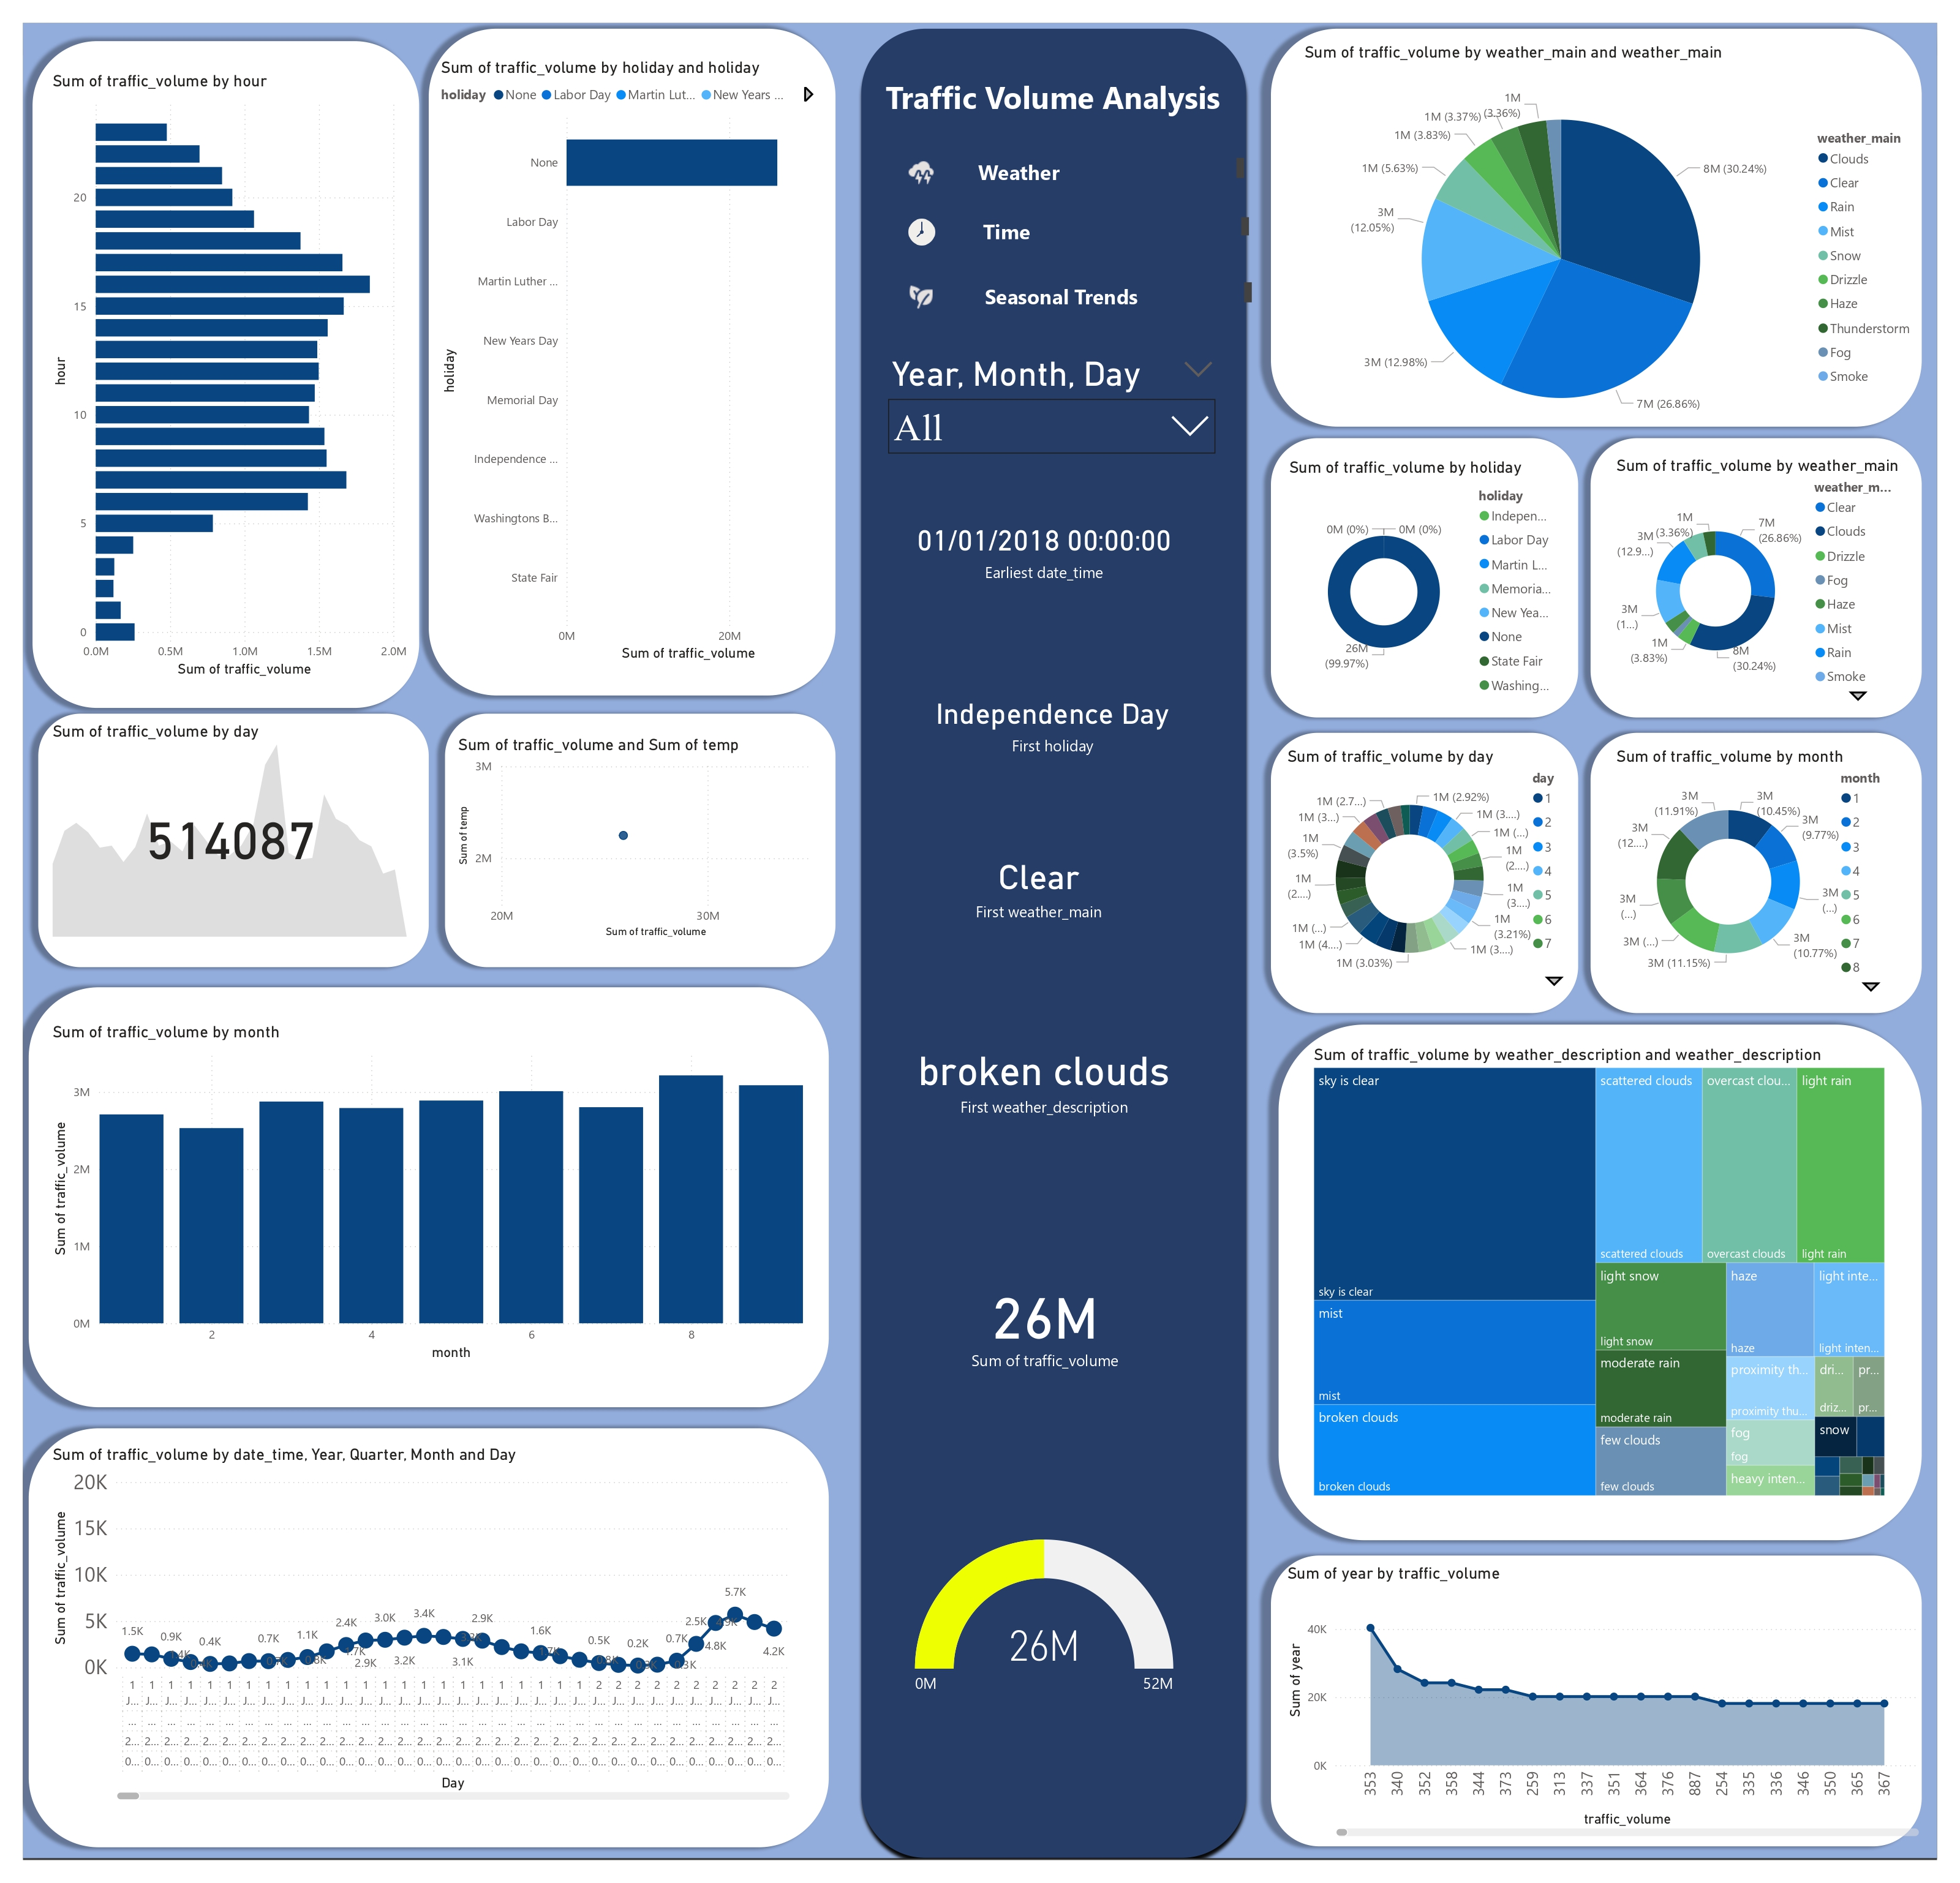

This screenshot's page, from the dashboard's own definition file:
{"tool":"powerbi","page":{"name":"Page 1","canvas":[2000,1920],"ordinal":0},"visuals":[{"type":"lineChart","fields":{"Y":["Sum(Metro_Interstate_Traffic_Volume_test.traffic_volume)"],"Category":["Metro_Interstate_Traffic_Volume_test.date_time","Metro_Interstate_Traffic_Volume_test.date_time.Variation.Date Hierarchy.Year","Metro_Interstate_Traffic_Volume_test.date_time.Variation.Date Hierarchy.Quarter","Metro_Interstate_Traffic_Volume_test.date_time.Variation.Date Hierarchy.Month","Metro_Interstate_Traffic_Volume_test.date_time.Variation.Date Hierarchy.Day"]},"box":[26,1486,780,376],"z":0},{"type":"clusteredBarChart","fields":{"Y":["Sum(Metro_Interstate_Traffic_Volume_test.traffic_volume)"],"Category":["Metro_Interstate_Traffic_Volume_test.hour"]},"box":[26,50,380,638],"z":1000},{"type":"clusteredColumnChart","fields":{"Category":["Metro_Interstate_Traffic_Volume_test.month"],"Y":["Sum(Metro_Interstate_Traffic_Volume_test.traffic_volume)"]},"box":[26,1044,794,358],"z":2000},{"type":"pieChart","fields":{"Y":["Sum(Metro_Interstate_Traffic_Volume_test.traffic_volume)"],"Category":["Metro_Interstate_Traffic_Volume_test.weather_main"],"Series":["Metro_Interstate_Traffic_Volume_test.weather_main"]},"box":[1334,20,652,434],"z":3000},{"type":"barChart","fields":{"Category":["Metro_Interstate_Traffic_Volume_test.holiday"],"Series":["Metro_Interstate_Traffic_Volume_test.holiday"],"Y":["Sum(Metro_Interstate_Traffic_Volume_test.traffic_volume)"]},"box":[432,36,408,636],"z":4000},{"type":"scatterChart","fields":{"X":["Sum(Metro_Interstate_Traffic_Volume_test.traffic_volume)"],"Y":["Sum(Metro_Interstate_Traffic_Volume_test.temp)"]},"box":[450,744,390,216],"z":5000},{"type":"areaChart","fields":{"Y":["Sum(Metro_Interstate_Traffic_Volume_test.year)"],"Category":["Metro_Interstate_Traffic_Volume_test.traffic_volume"]},"box":[1316,1610,670,290],"z":6000},{"type":"treemap","fields":{"Group":["Metro_Interstate_Traffic_Volume_test.weather_description"],"Values":["Sum(Metro_Interstate_Traffic_Volume_test.traffic_volume)"],"Details":["Metro_Interstate_Traffic_Volume_test.weather_description"]},"box":[1344,1068,606,476],"z":7000},{"type":"slicer","fields":{"Values":["Metro_Interstate_Traffic_Volume_test.date_time.Variation.Date Hierarchy.Year","Metro_Interstate_Traffic_Volume_test.date_time.Variation.Date Hierarchy.Month","Metro_Interstate_Traffic_Volume_test.date_time.Variation.Date Hierarchy.Day"]},"box":[894,340,362,128],"z":8000},{"type":"kpi","fields":{"Indicator":["Sum(Metro_Interstate_Traffic_Volume_test.traffic_volume)"],"TrendLine":["Metro_Interstate_Traffic_Volume_test.day"]},"box":[26,730,380,230],"z":9000},{"type":"card","fields":{"Values":["Min(Metro_Interstate_Traffic_Volume_test.holiday)"]},"box":[940,672,272,116],"z":10000},{"type":"donutChart","fields":{"Y":["Sum(Metro_Interstate_Traffic_Volume_test.traffic_volume)"],"Series":["Metro_Interstate_Traffic_Volume_test.weather_main"]},"box":[1660,452,306,264],"z":11000},{"type":"donutChart","fields":{"Y":["Sum(Metro_Interstate_Traffic_Volume_test.traffic_volume)"],"Series":["Metro_Interstate_Traffic_Volume_test.holiday"]},"box":[1318,454,294,262],"z":12000},{"type":"donutChart","fields":{"Y":["Sum(Metro_Interstate_Traffic_Volume_test.traffic_volume)"],"Series":["Metro_Interstate_Traffic_Volume_test.month"]},"box":[1660,756,306,264],"z":13000},{"type":"donutChart","fields":{"Y":["Sum(Metro_Interstate_Traffic_Volume_test.traffic_volume)"],"Series":["Metro_Interstate_Traffic_Volume_test.day"]},"box":[1316,756,310,258],"z":14000},{"type":"gauge","fields":{"Y":["Sum(Metro_Interstate_Traffic_Volume_test.traffic_volume)"]},"box":[922,1580,290,176],"z":15000},{"type":"card","fields":{"Values":["Min(Metro_Interstate_Traffic_Volume_test.weather_description)"]},"box":[910,1044,314,114],"z":16000},{"type":"card","fields":{"Values":["Min(Metro_Interstate_Traffic_Volume_test.weather_main)"]},"box":[985,845,152.5,110],"z":17000},{"type":"card","fields":{"Values":["Sum(Metro_Interstate_Traffic_Volume_test.traffic_volume)"]},"box":[928,1270,280,172],"z":18000},{"type":"card","fields":{"Values":["Min(Metro_Interstate_Traffic_Volume_test.date_time)"]},"box":[910,496,314,106],"z":19000},{"type":"textbox","box":[856,50,440,86],"z":20000},{"type":"image","box":[864,136,150,40],"z":21000},{"type":"image","box":[864,198,150,40],"z":22000},{"type":"image","box":[864,266,150,40],"z":23000},{"type":"textbox","box":[992.5,136.2,288.8,33.8],"z":24000},{"type":"textbox","box":[997.5,197.5,288.8,33.8],"z":25000},{"type":"textbox","box":[1000,266.2,288.8,33.8],"z":26000}]}

Visuals, with their boxes in screenshot pixels (x1, y1, x2, y2), scaled from the page's 2000x1920 canvas onto the 1960x1883 screenshot:
lineChart - Sum(Metro_Interstate_Traffic_Volume_test.traffic_volume) x Metro_Interstate_Traffic_Volume_test.date_time: x1=26 y1=1457 x2=790 y2=1826
clusteredBarChart - Sum(Metro_Interstate_Traffic_Volume_test.traffic_volume) x Metro_Interstate_Traffic_Volume_test.hour: x1=26 y1=49 x2=398 y2=675
clusteredColumnChart - Metro_Interstate_Traffic_Volume_test.month x Sum(Metro_Interstate_Traffic_Volume_test.traffic_volume): x1=26 y1=1024 x2=804 y2=1375
pieChart - Sum(Metro_Interstate_Traffic_Volume_test.traffic_volume) x Metro_Interstate_Traffic_Volume_test.weather_main: x1=1307 y1=20 x2=1947 y2=445
barChart - Metro_Interstate_Traffic_Volume_test.holiday x Metro_Interstate_Traffic_Volume_test.holiday: x1=423 y1=36 x2=823 y2=659
scatterChart - Sum(Metro_Interstate_Traffic_Volume_test.traffic_volume) x Sum(Metro_Interstate_Traffic_Volume_test.temp): x1=441 y1=730 x2=823 y2=942
areaChart - Sum(Metro_Interstate_Traffic_Volume_test.year) x Metro_Interstate_Traffic_Volume_test.traffic_volume: x1=1290 y1=1579 x2=1947 y2=1863
treemap - Metro_Interstate_Traffic_Volume_test.weather_description x Sum(Metro_Interstate_Traffic_Volume_test.traffic_volume): x1=1317 y1=1047 x2=1911 y2=1514
slicer - Metro_Interstate_Traffic_Volume_test.date_time.Variation.Date Hierarchy.Year x Metro_Interstate_Traffic_Volume_test.date_time.Variation.Date Hierarchy.Month: x1=876 y1=334 x2=1231 y2=459
kpi - Sum(Metro_Interstate_Traffic_Volume_test.traffic_volume) x Metro_Interstate_Traffic_Volume_test.day: x1=26 y1=716 x2=398 y2=942
card - Min(Metro_Interstate_Traffic_Volume_test.holiday): x1=921 y1=659 x2=1188 y2=773
donutChart - Sum(Metro_Interstate_Traffic_Volume_test.traffic_volume) x Metro_Interstate_Traffic_Volume_test.weather_main: x1=1627 y1=443 x2=1927 y2=702
donutChart - Sum(Metro_Interstate_Traffic_Volume_test.traffic_volume) x Metro_Interstate_Traffic_Volume_test.holiday: x1=1292 y1=445 x2=1580 y2=702
donutChart - Sum(Metro_Interstate_Traffic_Volume_test.traffic_volume) x Metro_Interstate_Traffic_Volume_test.month: x1=1627 y1=742 x2=1927 y2=1001
donutChart - Sum(Metro_Interstate_Traffic_Volume_test.traffic_volume) x Metro_Interstate_Traffic_Volume_test.day: x1=1290 y1=742 x2=1594 y2=994
gauge - Sum(Metro_Interstate_Traffic_Volume_test.traffic_volume): x1=903 y1=1549 x2=1188 y2=1722
card - Min(Metro_Interstate_Traffic_Volume_test.weather_description): x1=892 y1=1024 x2=1199 y2=1136
card - Min(Metro_Interstate_Traffic_Volume_test.weather_main): x1=965 y1=829 x2=1115 y2=936
card - Sum(Metro_Interstate_Traffic_Volume_test.traffic_volume): x1=910 y1=1246 x2=1184 y2=1414
card - Min(Metro_Interstate_Traffic_Volume_test.date_time): x1=892 y1=486 x2=1199 y2=590
textbox: x1=839 y1=49 x2=1270 y2=133
image: x1=846 y1=133 x2=993 y2=173
image: x1=846 y1=194 x2=993 y2=233
image: x1=846 y1=261 x2=993 y2=300
textbox: x1=973 y1=133 x2=1256 y2=167
textbox: x1=978 y1=194 x2=1261 y2=227
textbox: x1=980 y1=261 x2=1263 y2=294
